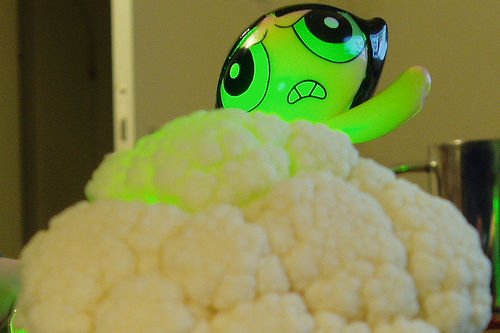cauliflower: (11, 107, 494, 332)
